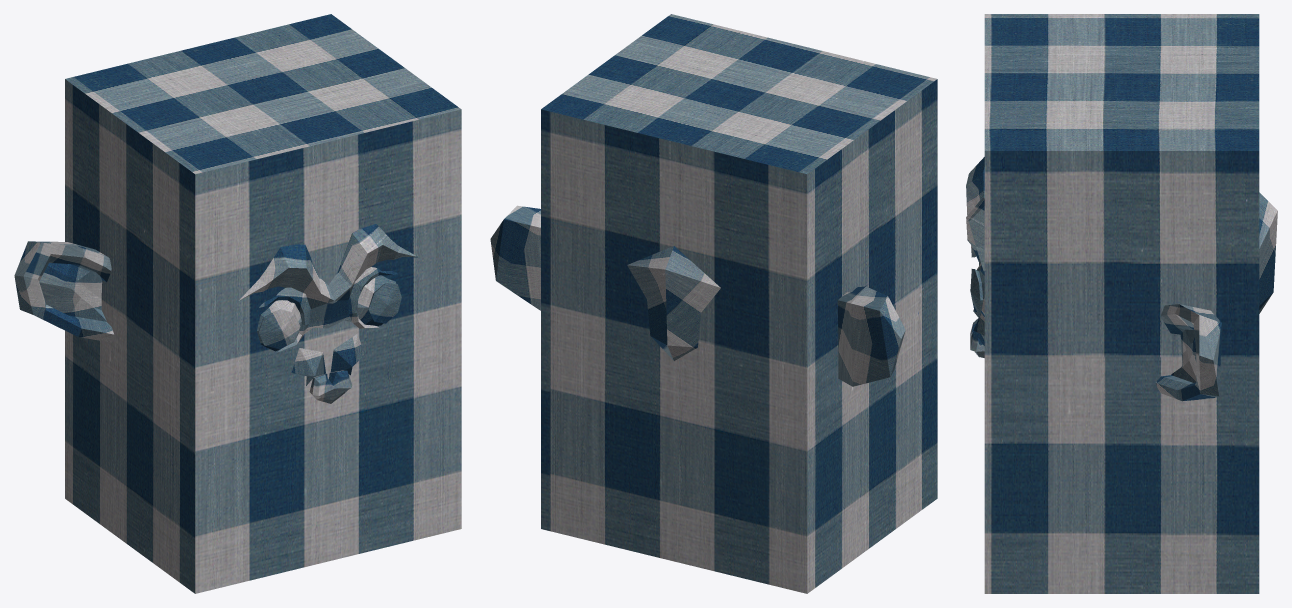
File: three.obj
3 renders of one model, left to right at view 1: azimuth 30°, elevation 25°; view 2: azimuth 150°, elevation 25°; view 3: azimuth 270°, elevation 25°, orthographic. The views are drawn at different scales.
Parts seen in each view (by area): view 1: Cube, Suzanne; view 2: Cube, Suzanne; view 3: Cube, Suzanne.
Part boxes in pixels (x1,y1,x2,y2): Cube: (65, 14, 461, 593); Suzanne: (14, 224, 417, 403); Cube: (541, 14, 937, 593); Suzanne: (490, 205, 905, 386); Cube: (984, 14, 1259, 593); Suzanne: (966, 157, 1277, 401).
Size of the model in its own units: 2.73 by 2.67 by 1.7.
Materials: 2 (2 with a texture image).
